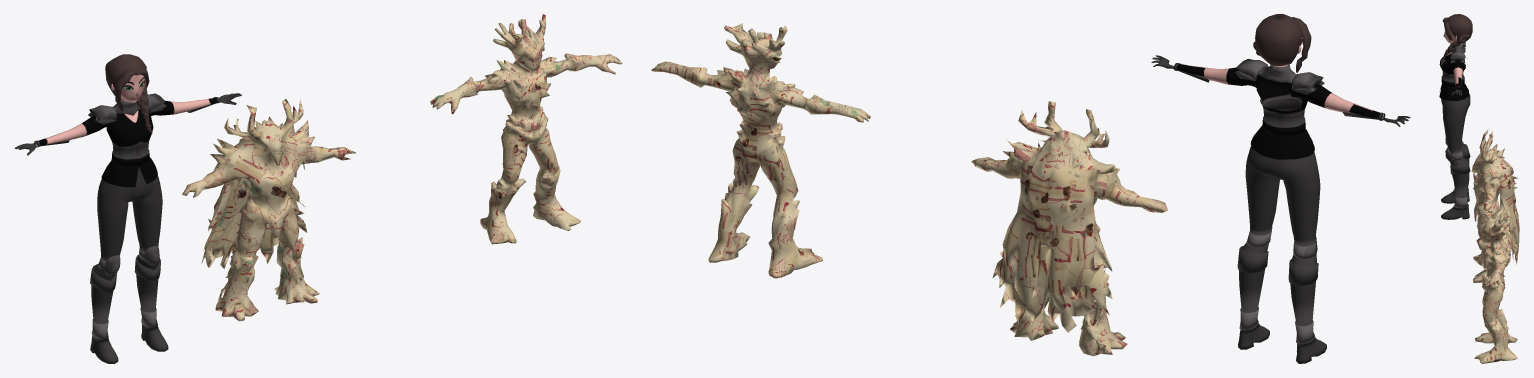
The model's file is prueba.fbx.
The picture shows the model from 3 angles, left to right: view 1: azimuth 30°, elevation 25°; view 2: azimuth 150°, elevation 25°; view 3: azimuth 270°, elevation 25°; orthographic projection. The views are drawn at different scales.
Parts seen in each view (by area): view 1: Mesh_0; view 2: Mesh_0; view 3: Mesh_0.
Part boxes in pixels (x1,y1,x2,y2): Mesh_0: (14,14,622,363); Mesh_0: (651,14,1410,363); Mesh_0: (1439,14,1519,363).
Bounding box in the file's own units: 622 × 285 × 103.
